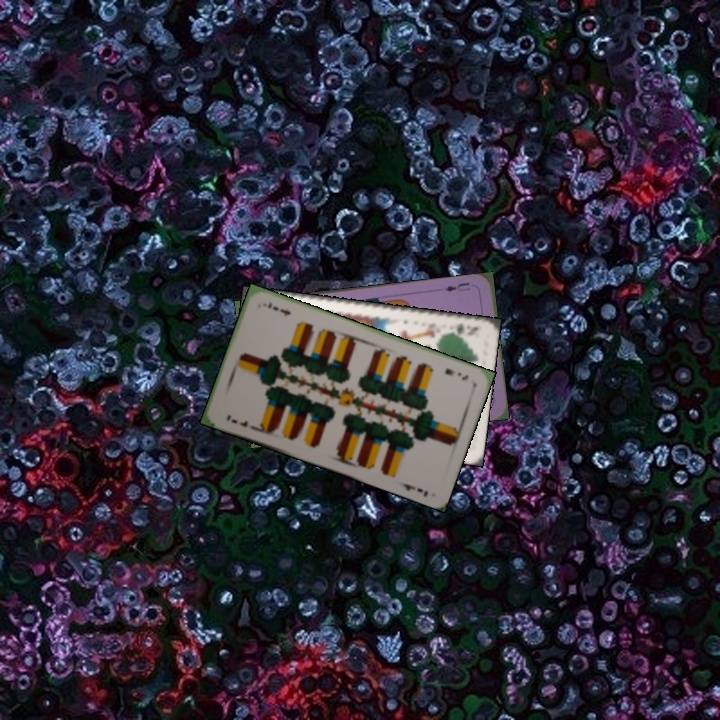E7: (441, 364, 471, 383), (222, 410, 251, 429)
EU: (441, 279, 473, 294)
GK: (442, 319, 481, 338)
